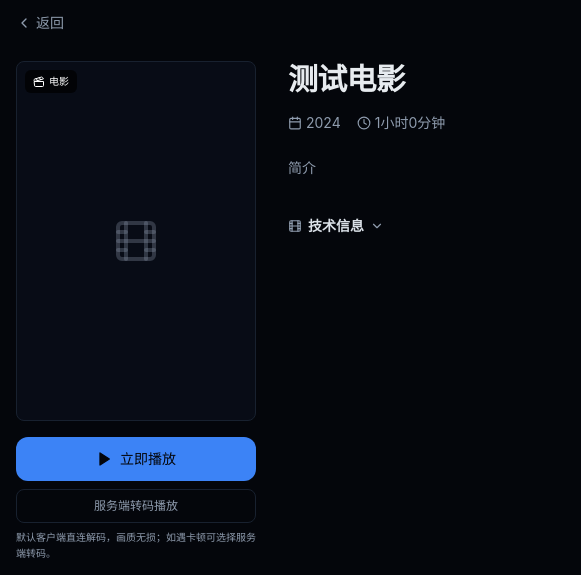
it: Detail page: technical info + progress wiring › maps an AUTH_REQUIRED probe failure to a distinct wording
The image size is (581, 575).
Click the button "技术信息" at (336, 226), box [288,212,384,240]
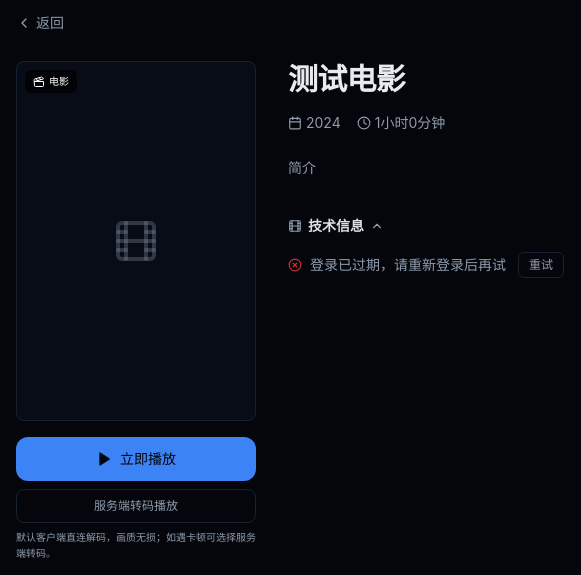
Expected: the text "登录已过期，请重新登录后再试" is shown, [288,255,506,275]
